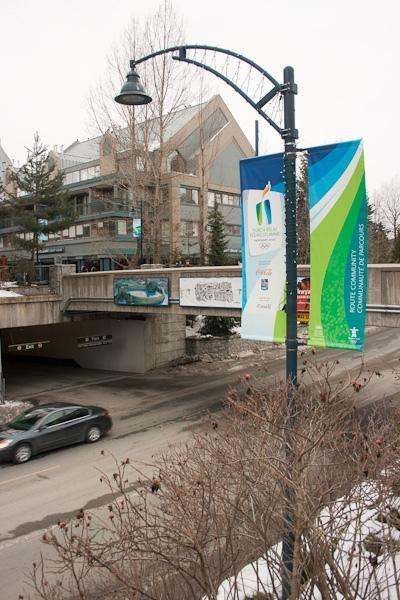car: (0, 403, 116, 467)
